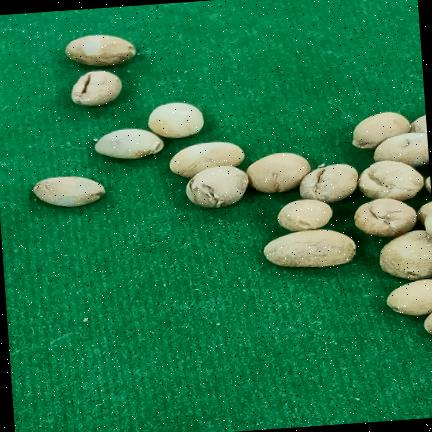good: (263, 229, 355, 267), (169, 141, 244, 177), (379, 230, 432, 280), (186, 165, 248, 207), (246, 152, 310, 192), (358, 161, 423, 200), (354, 198, 416, 236), (299, 164, 358, 203), (65, 35, 135, 66), (33, 176, 105, 206), (352, 112, 410, 149), (94, 128, 163, 158), (148, 102, 203, 138), (373, 132, 429, 167), (71, 70, 122, 105), (277, 199, 332, 231), (386, 279, 432, 315), (424, 312, 432, 334)
